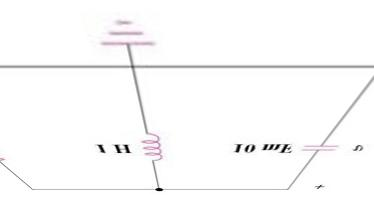inductor: (135, 118, 170, 171)
